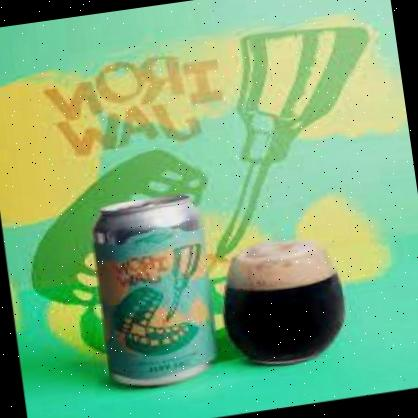can: (86, 189, 224, 396)
